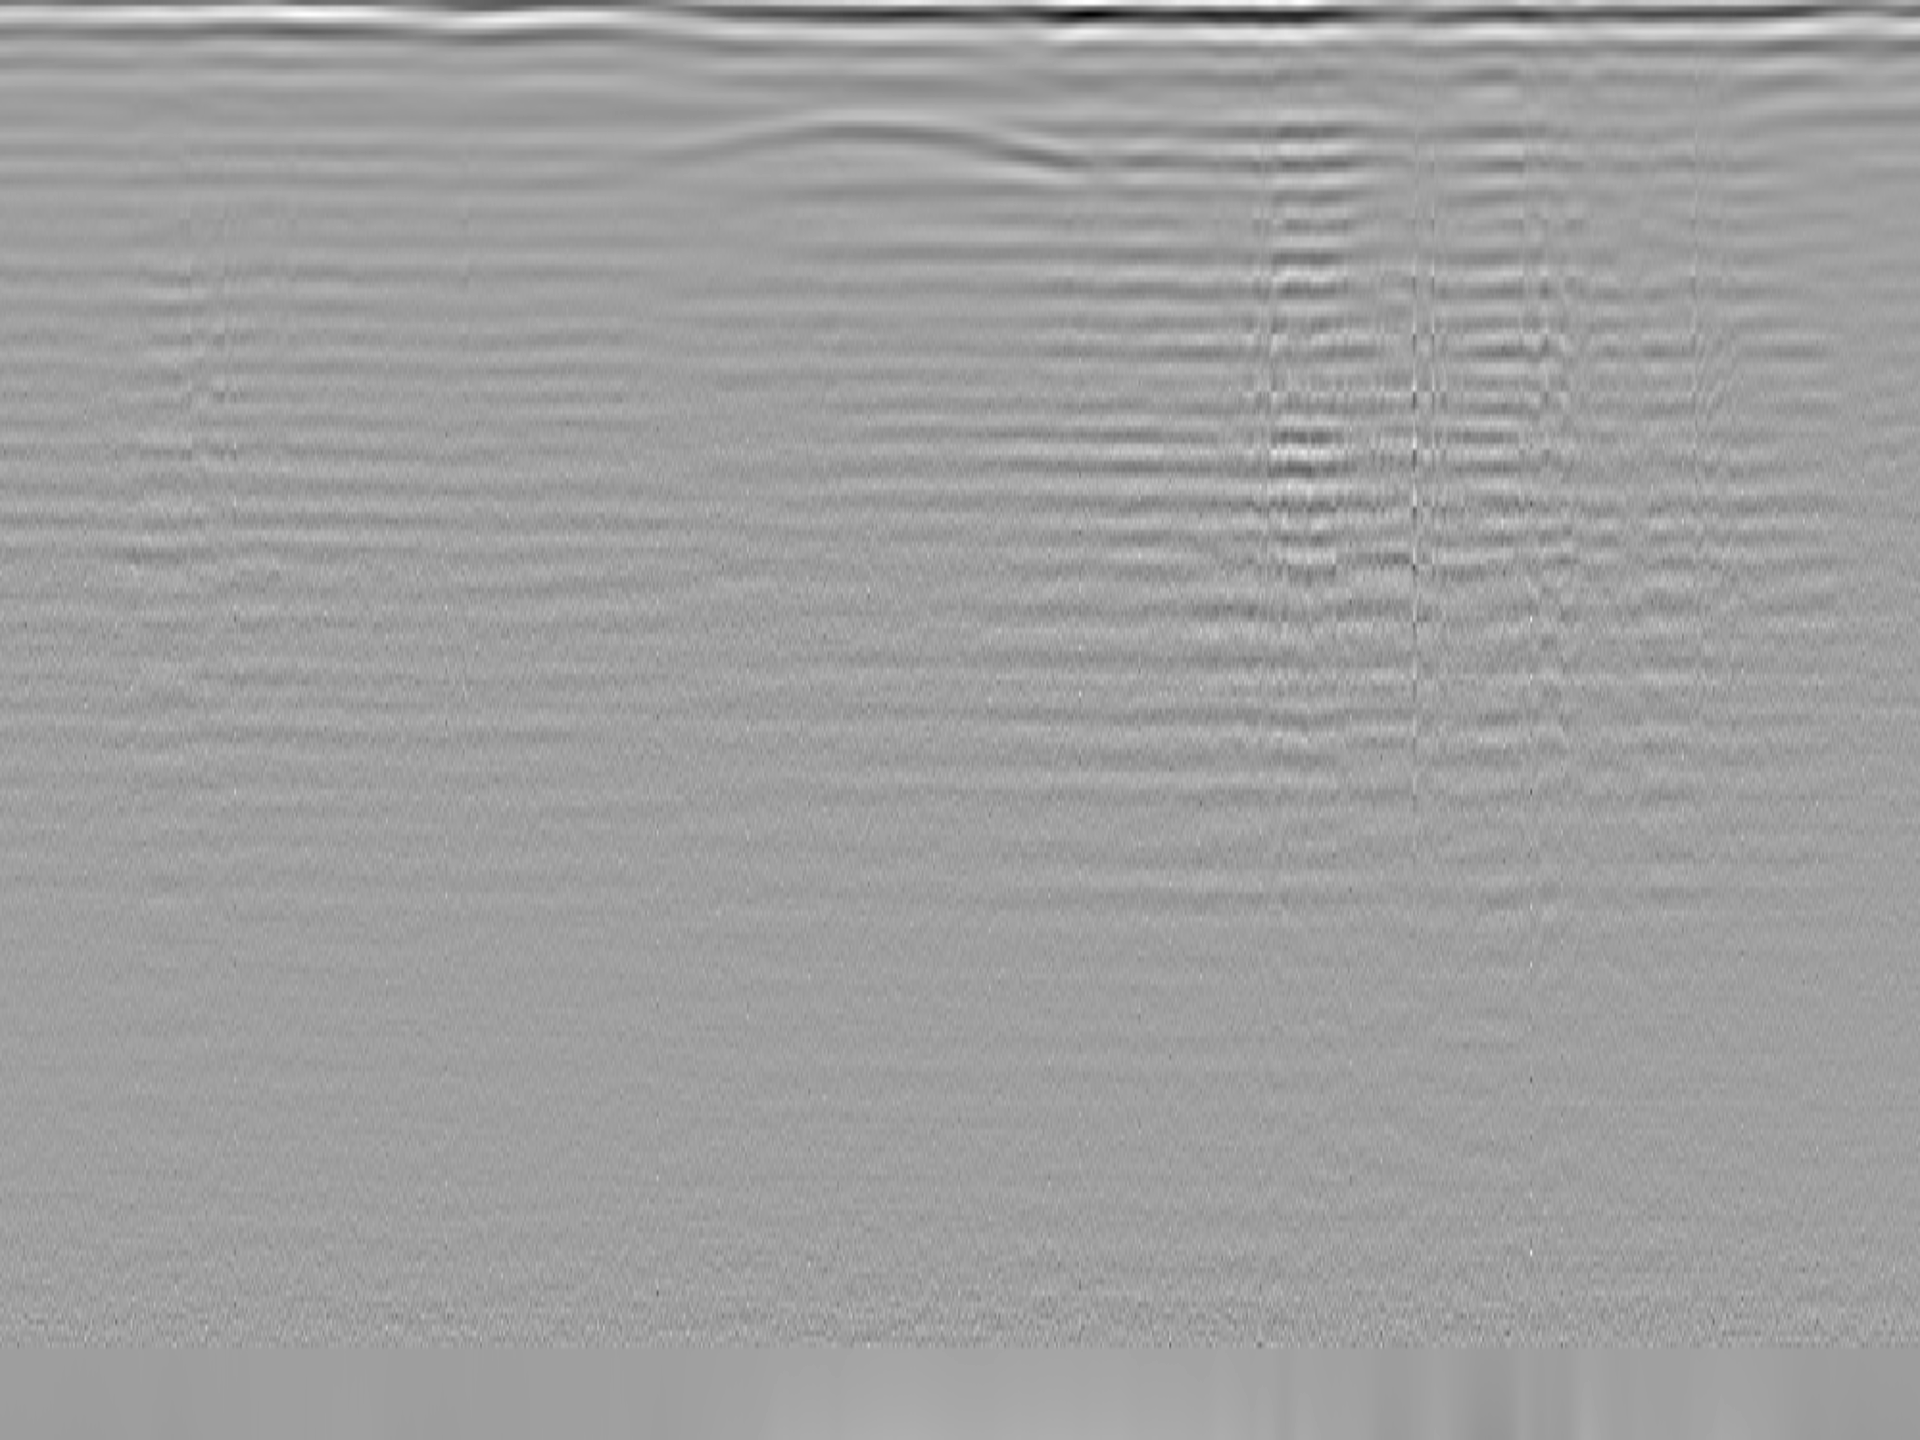Tunnel: (655, 106, 1101, 169)
